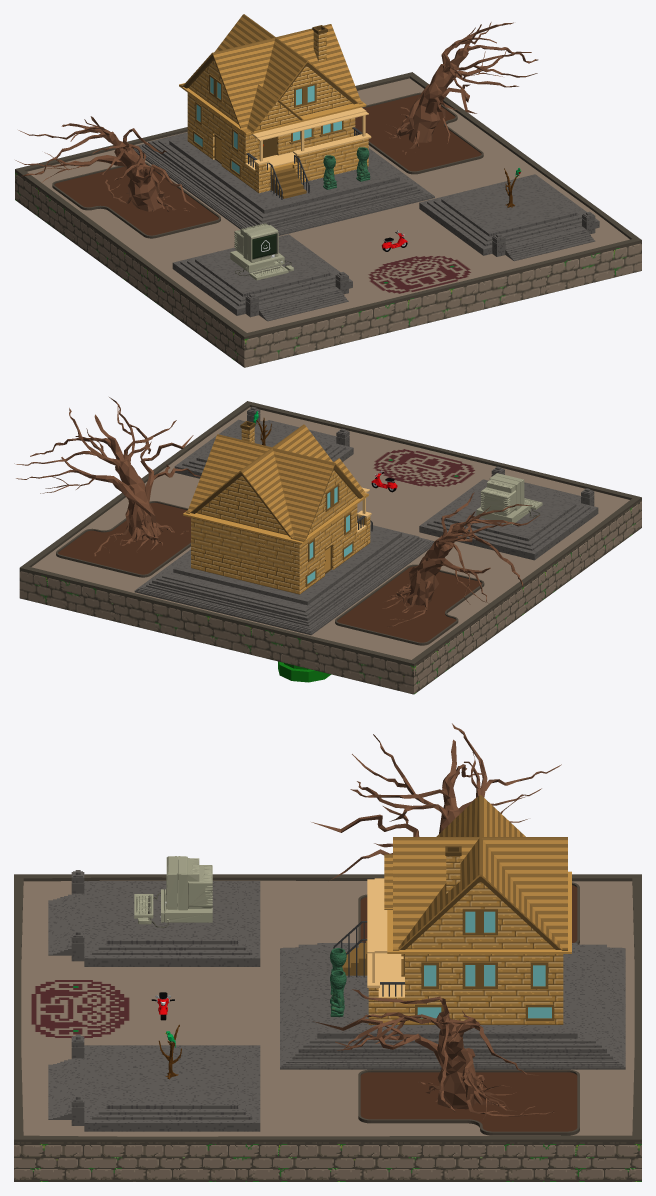
3 views of the same model, one above another, from view 1: azimuth 30°, elevation 25°; view 2: azimuth 150°, elevation 25°; view 3: azimuth 270°, elevation 25° (orthographic). The views are drawn at different scales.
Visible parts, largest first — view 1: Cube.011, Cube.508, OBJRANDOM_RETRO_PC; view 2: Cube.011, Cube.508, OBJRANDOM_RETRO_PC, UNDERGROUND_PIPES; view 3: Cube.011, Cube.508, OBJRANDOM_RETRO_PC.
Boxes of the visible parts, x1,y1,x2,y2 form: Cube.011: [15, 22, 641, 367]; Cube.508: [179, 14, 371, 199]; OBJRANDOM_RETRO_PC: [230, 223, 293, 280]; Cube.011: [14, 397, 641, 694]; Cube.508: [183, 421, 372, 594]; OBJRANDOM_RETRO_PC: [476, 473, 542, 525]; UNDERGROUND_PIPES: [278, 661, 331, 682]; Cube.011: [14, 723, 641, 1181]; Cube.508: [333, 795, 571, 1024]; OBJRANDOM_RETRO_PC: [134, 856, 212, 927].
Size of the model in its own units: 5099 by 2243 by 4000.
Materials: 35 (6 with a texture image).
